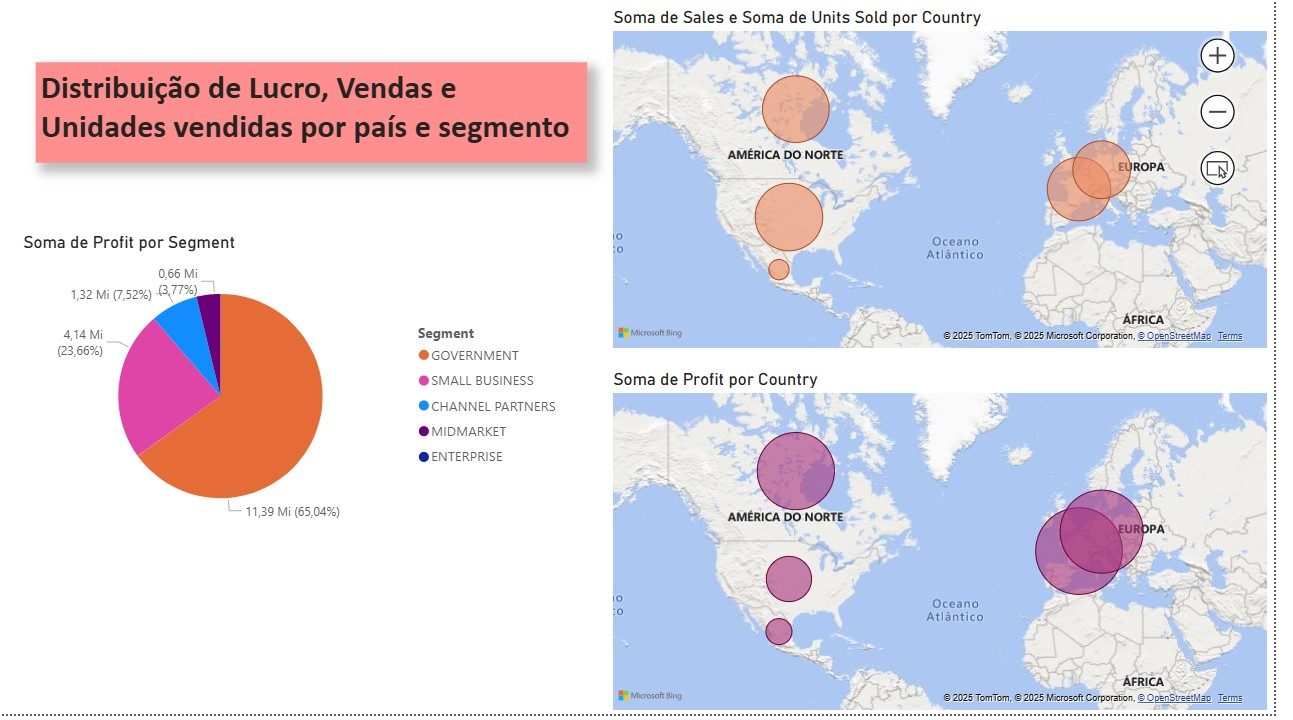

The page's visual inventory and layout, read from the dashboard file:
{"tool":"powerbi","page":{"name":"Distribuição de Vendas Mapeada","canvas":[1280,720],"ordinal":2},"visuals":[{"type":"pieChart","fields":{"Category":["financials.Segment"],"Y":["Sum(financials.Profit)"]},"box":[31.1,240.1,549.8,307.3],"z":0},{"type":"map","fields":{"Category":["financials.Country"],"Size":["Sum(financials. Sales)"]},"box":[618.7,16.5,661.3,343.7],"z":1000},{"type":"map","fields":{"Category":["financials.Country"],"Size":["Sum(financials.Profit)"]},"box":[618.7,375.3,661.3,345.1],"z":2000},{"type":"textbox","box":[48.1,71.5,548.6,100.4],"z":3000}]}

Visuals, with their boxes in screenshot pixels (x1, y1, x2, y2), scaled from the page's 1280x720 canvas onto the 1293x720 screenshot:
pieChart - financials.Segment x Sum(financials.Profit): x1=31, y1=240, x2=587, y2=547
map - financials.Country x Sum(financials. Sales): x1=625, y1=16, x2=1292, y2=360
map - financials.Country x Sum(financials.Profit): x1=625, y1=375, x2=1292, y2=719
textbox: x1=49, y1=72, x2=603, y2=172
